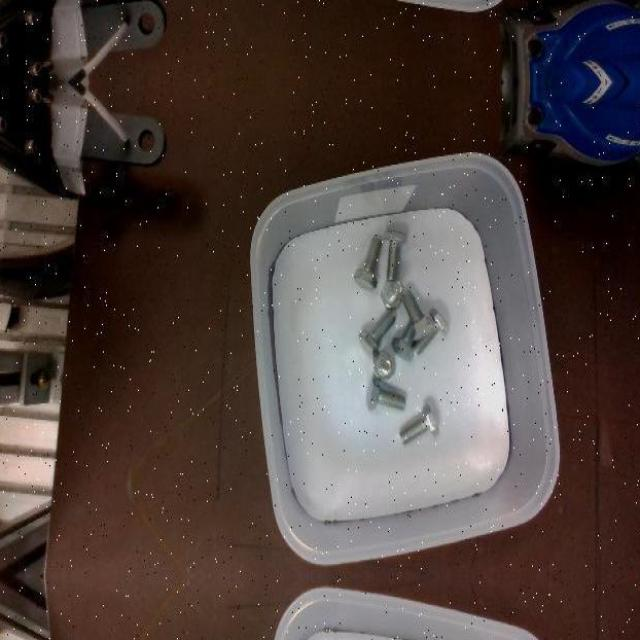screw: (358, 310, 395, 358), (400, 402, 440, 445), (400, 289, 433, 340), (353, 238, 382, 290), (366, 375, 406, 410), (382, 230, 406, 280), (374, 349, 395, 383), (380, 280, 402, 309)
